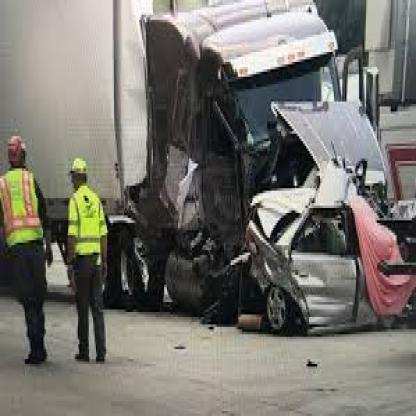accident: (92, 4, 416, 365)
